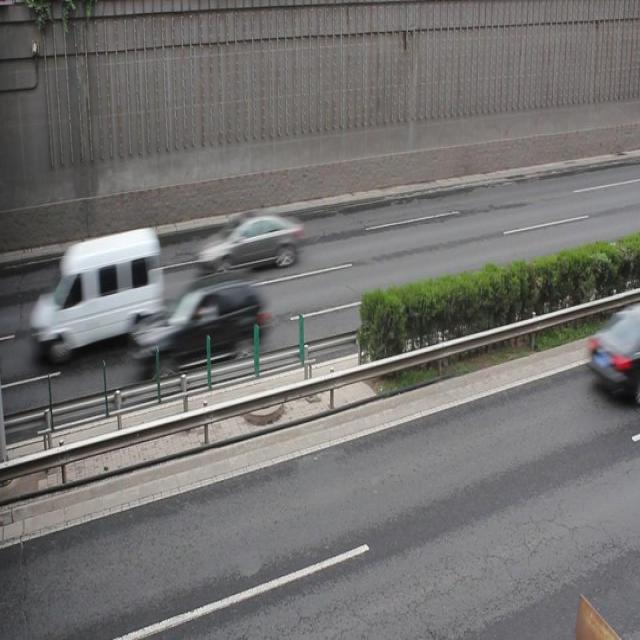car: (132, 272, 266, 377), (194, 210, 300, 277)
truck: (44, 224, 165, 354)
